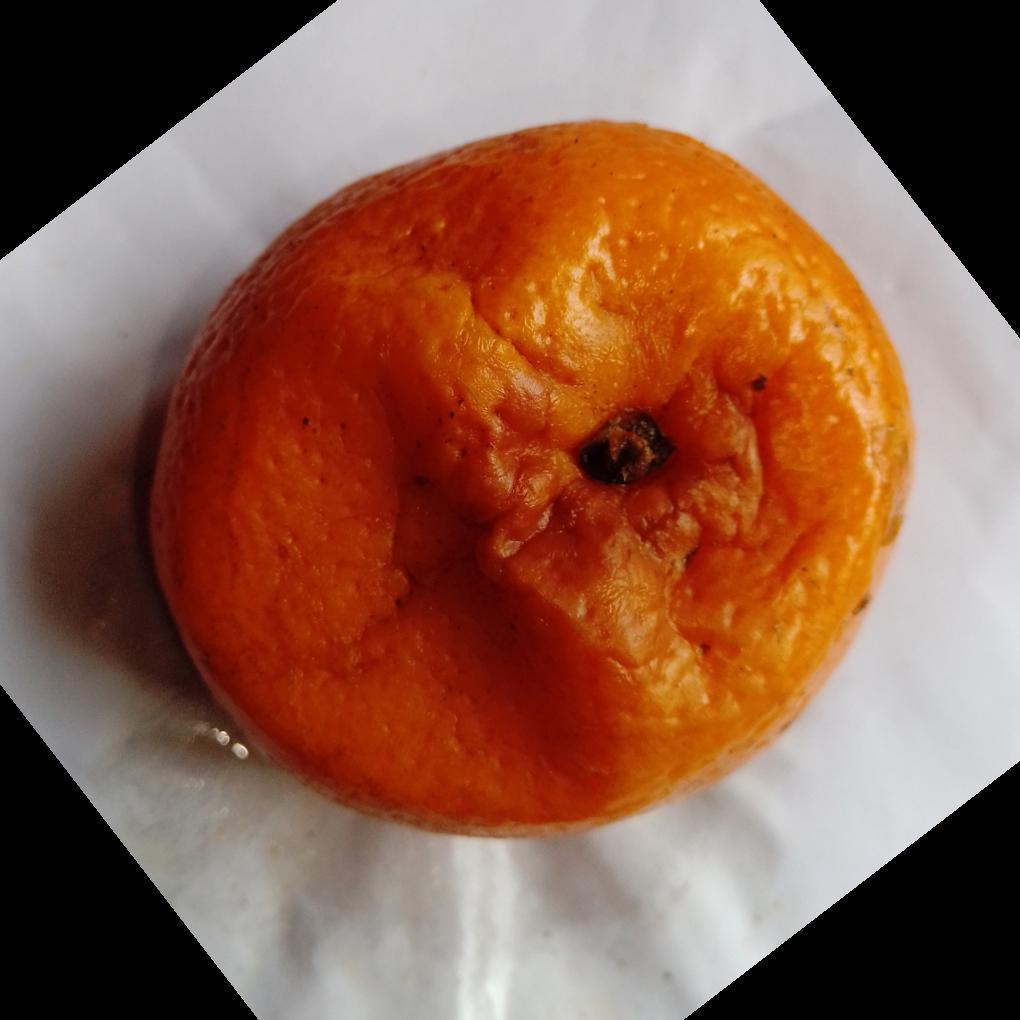FreshOrange: (138, 120, 916, 844)
